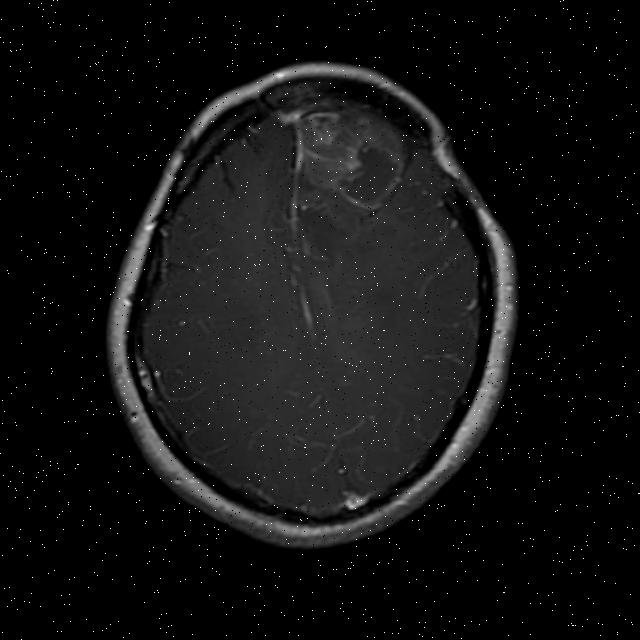Glioma: (296, 97, 415, 217)
